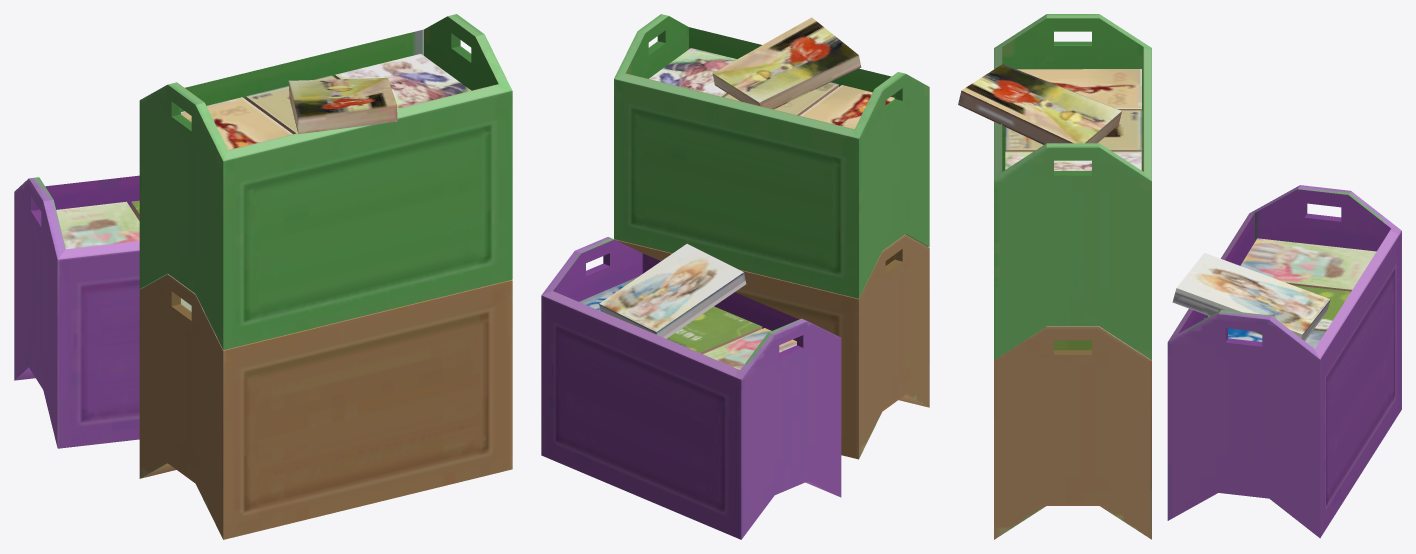
File: furni_0200148_01.FBX
3 renders of one model, left to right at view 1: azimuth 30°, elevation 25°; view 2: azimuth 150°, elevation 25°; view 3: azimuth 270°, elevation 25°, orthographic. The views are drawn at different scales.
Parts seen in each view (by area): view 1: furni_0200148_01; view 2: furni_0200148_01; view 3: furni_0200148_01.
Boxes of the visible parts, box(x1,y1,x2,y2) form: furni_0200148_01: box(14, 14, 512, 539); furni_0200148_01: box(541, 14, 929, 539); furni_0200148_01: box(958, 14, 1401, 539).
Size of the model in its own units: 54.73 by 67.78 by 69.49.
1 material, 1 textured.
